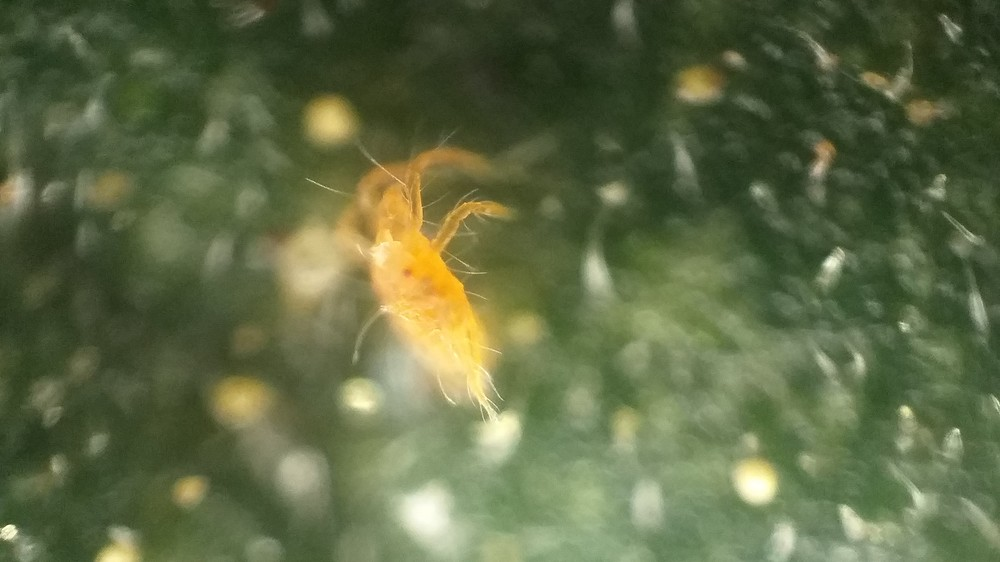Aracnido Rojo: (310, 127, 569, 437)
